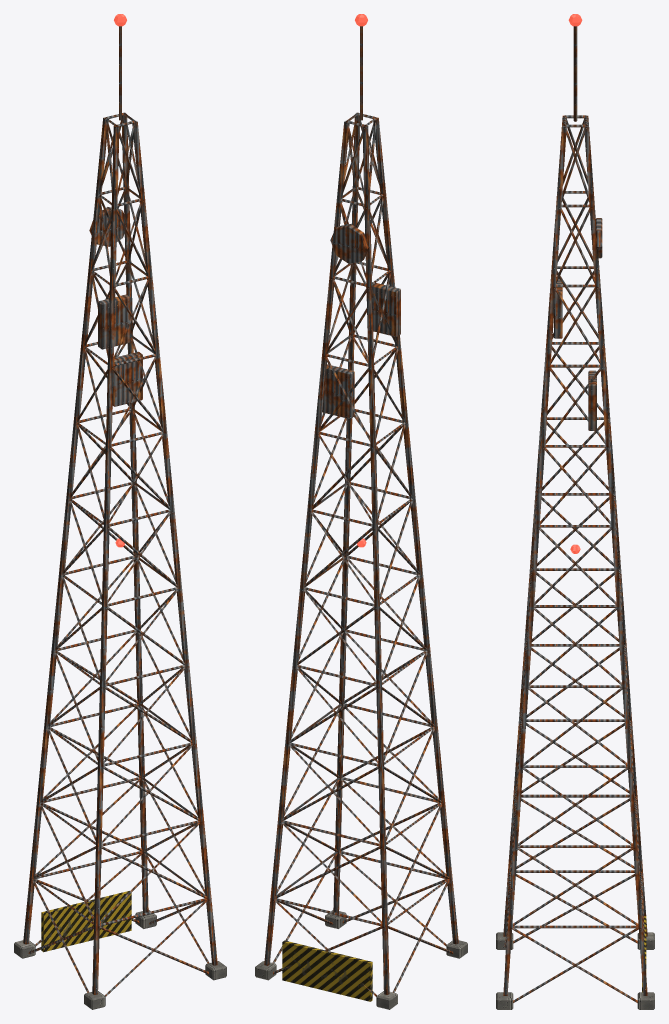
Rendered from prop_radio_tower.glb.
3 views of the same model, side by side, from view 1: azimuth 30°, elevation 25°; view 2: azimuth 150°, elevation 25°; view 3: azimuth 270°, elevation 25° (orthographic).
Visible parts, largest first — view 1: prop_radio_tower_mesh; view 2: prop_radio_tower_mesh; view 3: prop_radio_tower_mesh.
Part boxes in pixels (left/top/right/bottom): prop_radio_tower_mesh: left=14, top=14, right=226, bottom=1009; prop_radio_tower_mesh: left=255, top=14, right=467, bottom=1009; prop_radio_tower_mesh: left=496, top=14, right=654, bottom=1009.
Size of the model in its own units: 3.7 by 24.79 by 3.7.
4 materials, 4 textured.
